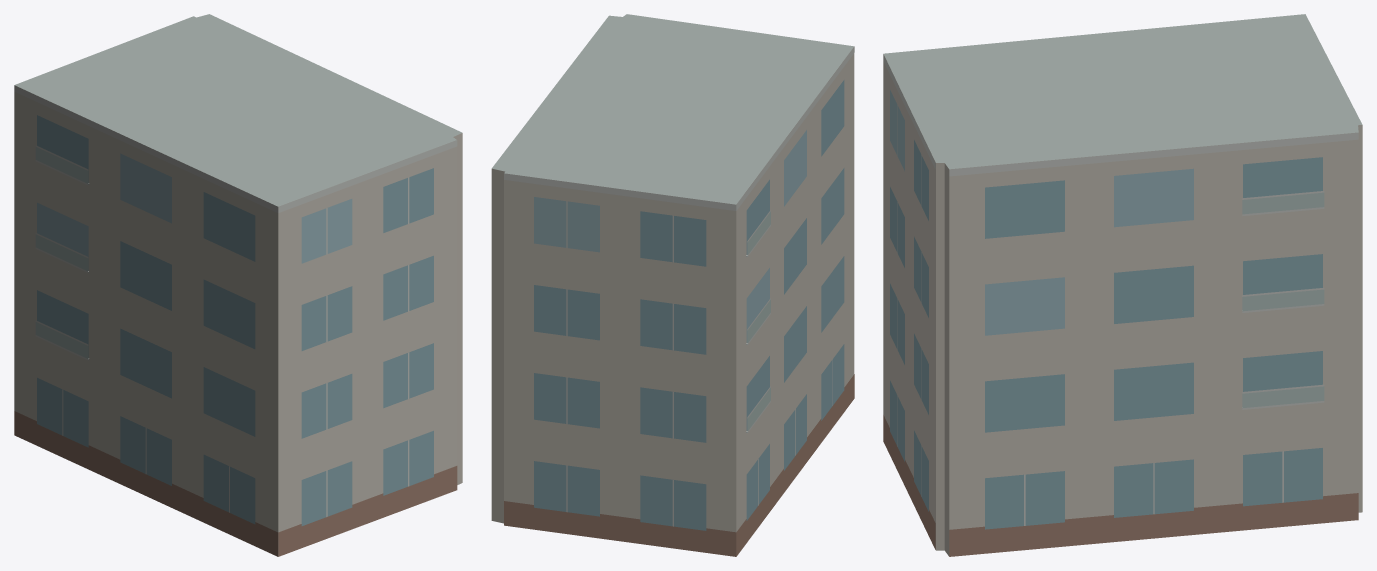
The model's file is survey-upis-32627975.glb.
3 renders of one model, left to right at view 1: azimuth 30°, elevation 25°; view 2: azimuth 150°, elevation 25°; view 3: azimuth 270°, elevation 25°, orthographic. The views are drawn at different scales.
Parts seen in each view (by area): view 1: survey-upis-32627975.tmp; view 2: survey-upis-32627975.tmp; view 3: survey-upis-32627975.tmp.
Part boxes in pixels (x1,y1,x2,y2): survey-upis-32627975.tmp: (14, 14, 462, 556); survey-upis-32627975.tmp: (491, 14, 854, 556); survey-upis-32627975.tmp: (883, 14, 1362, 556).
Bounding box in the file's own units: 11.35 × 13.2 × 14.8.
